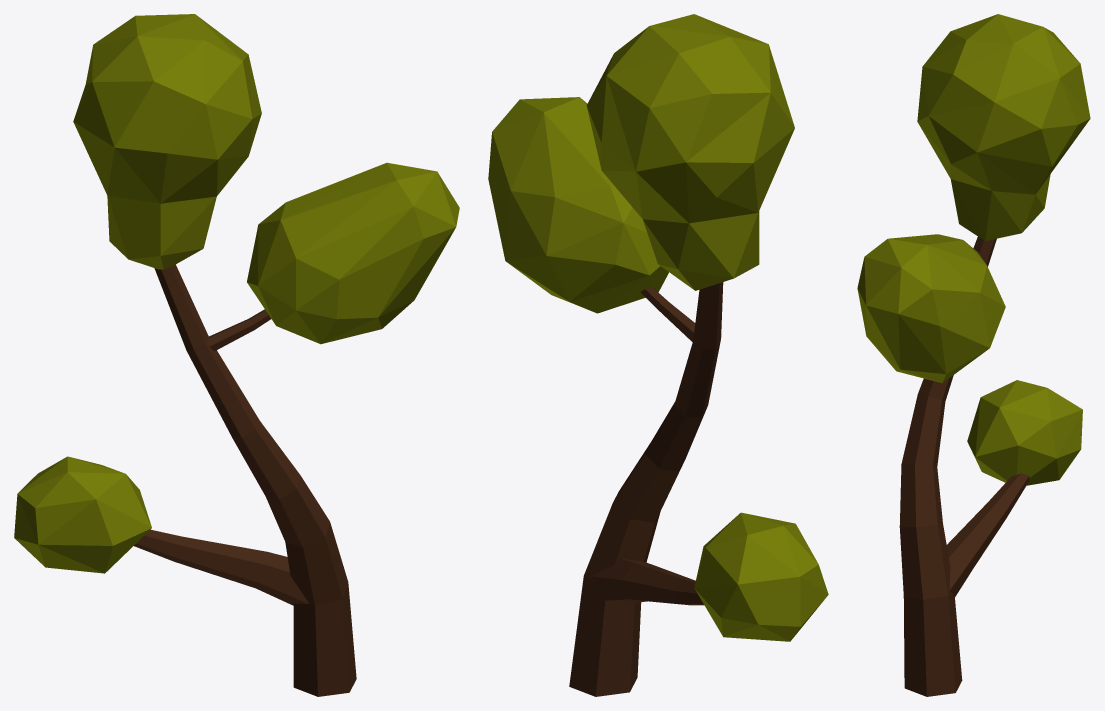
The model's file is Tree_1.glb.
3 views of the same model, side by side, from view 1: azimuth 30°, elevation 25°; view 2: azimuth 150°, elevation 25°; view 3: azimuth 270°, elevation 25° (orthographic). The views are drawn at different scales.
Visible parts, largest first — view 1: Tree_01; view 2: Tree_01; view 3: Tree_01.
Part boxes in pixels (x1,y1,x2,y2): Tree_01: (14,14,459,696); Tree_01: (488,14,828,696); Tree_01: (857,14,1090,696).
Bounding box in the file's own units: 1.39 × 2.42 × 0.8471.
